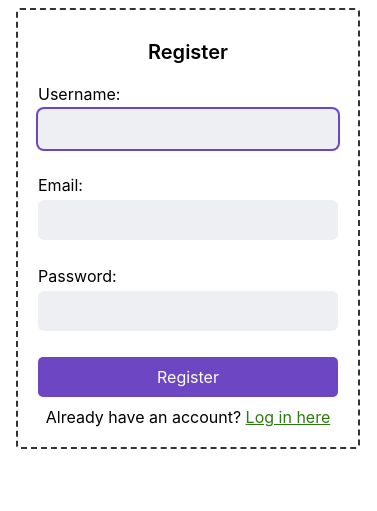
Test: <Register /> › validates form fields before submission
Step 1. Click the button "Register" → (188, 377), box [38,357,338,397]
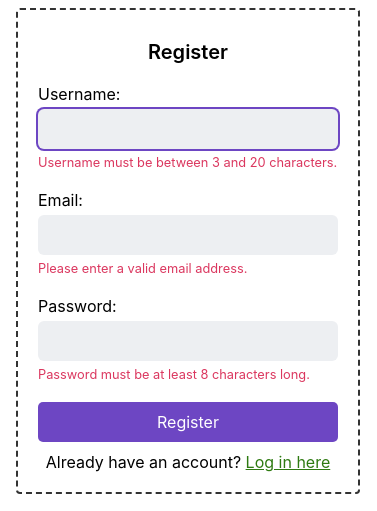
Now the text "Username must be between 3 and 20 characters." is shown, box [38,155,338,170]
Now the text "Please enter a valid email address." is shown, box [38,261,247,276]
Now the text "Password must be at least 8 characters long." is shown, box [38,367,338,382]
